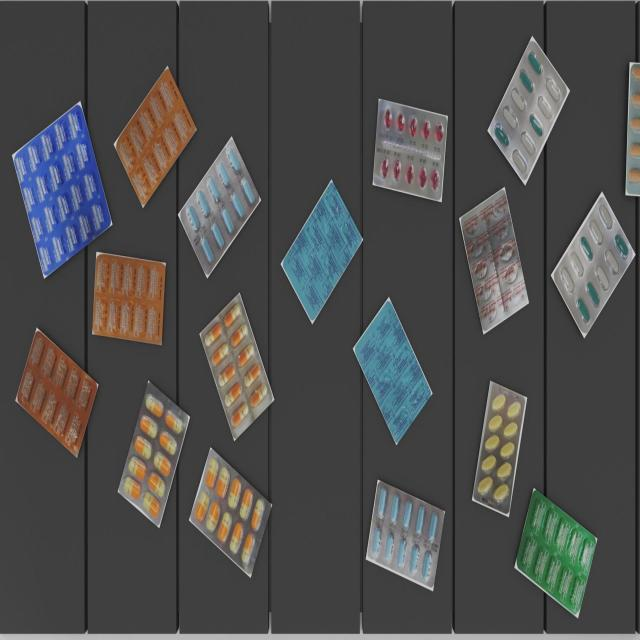blister: (13, 105, 112, 279), (281, 180, 364, 324), (110, 72, 198, 206), (488, 43, 569, 184), (178, 139, 260, 278), (353, 302, 433, 444), (555, 194, 633, 336), (200, 290, 273, 441), (12, 334, 100, 458), (116, 380, 190, 524), (458, 188, 529, 336), (189, 448, 271, 576), (515, 490, 596, 613), (368, 480, 443, 592), (370, 97, 448, 202), (472, 380, 525, 514), (92, 254, 166, 346)
